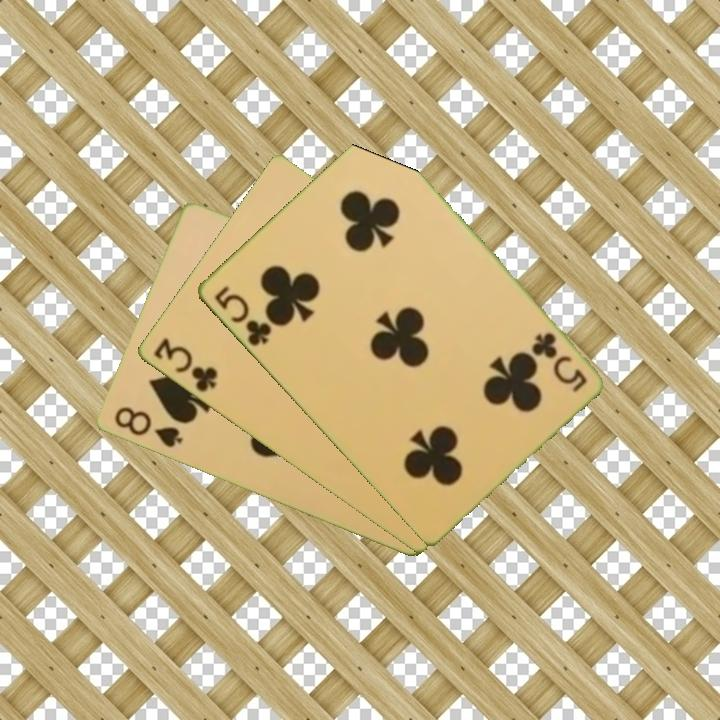3c: (149, 334, 221, 396)
5c: (210, 282, 274, 349), (528, 329, 590, 395)
8s: (110, 403, 185, 451)
